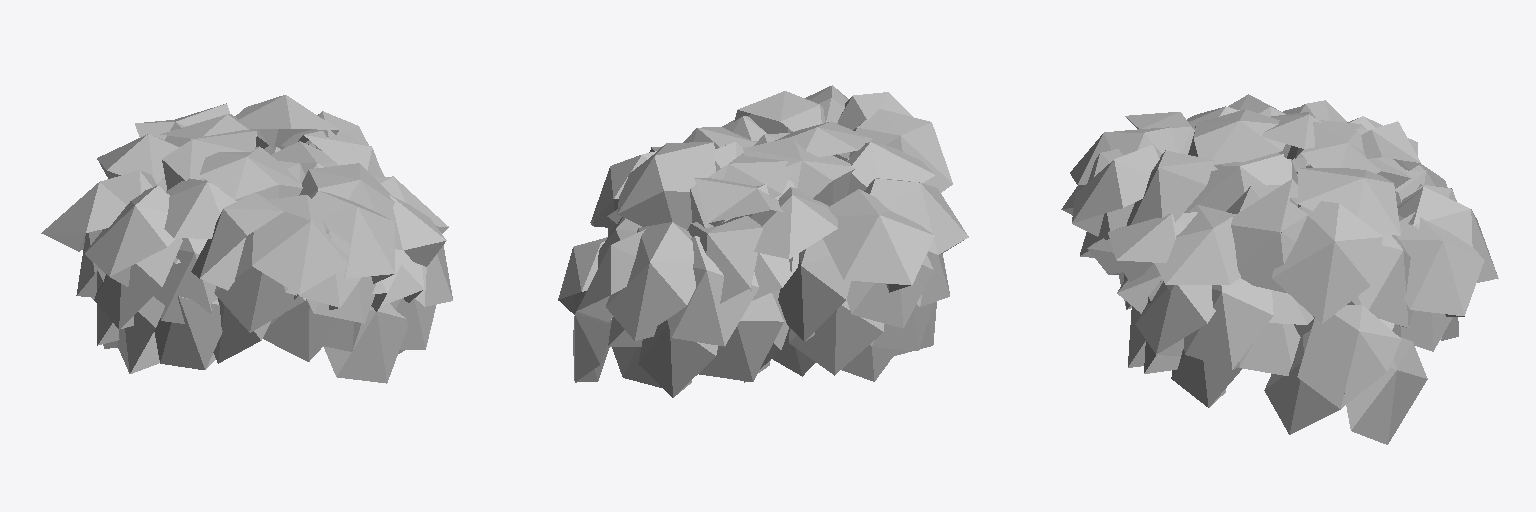
The model's file is trees_leaves_003.obj.
The picture shows the model from 3 angles: view 1: azimuth 30°, elevation 25°; view 2: azimuth 150°, elevation 25°; view 3: azimuth 270°, elevation 25°; orthographic projection.
Visible parts, largest first — view 1: treebrown2_leaves.001; view 2: treebrown2_leaves.001; view 3: treebrown2_leaves.001.
Boxes of the visible parts, x1=… form: treebrown2_leaves.001: x1=41, y1=95, x2=452, y2=383; treebrown2_leaves.001: x1=558, y1=85, x2=968, y2=397; treebrown2_leaves.001: x1=1061, y1=94, x2=1498, y2=444.
Size of the model in its own units: 11.61 by 7.48 by 12.23.